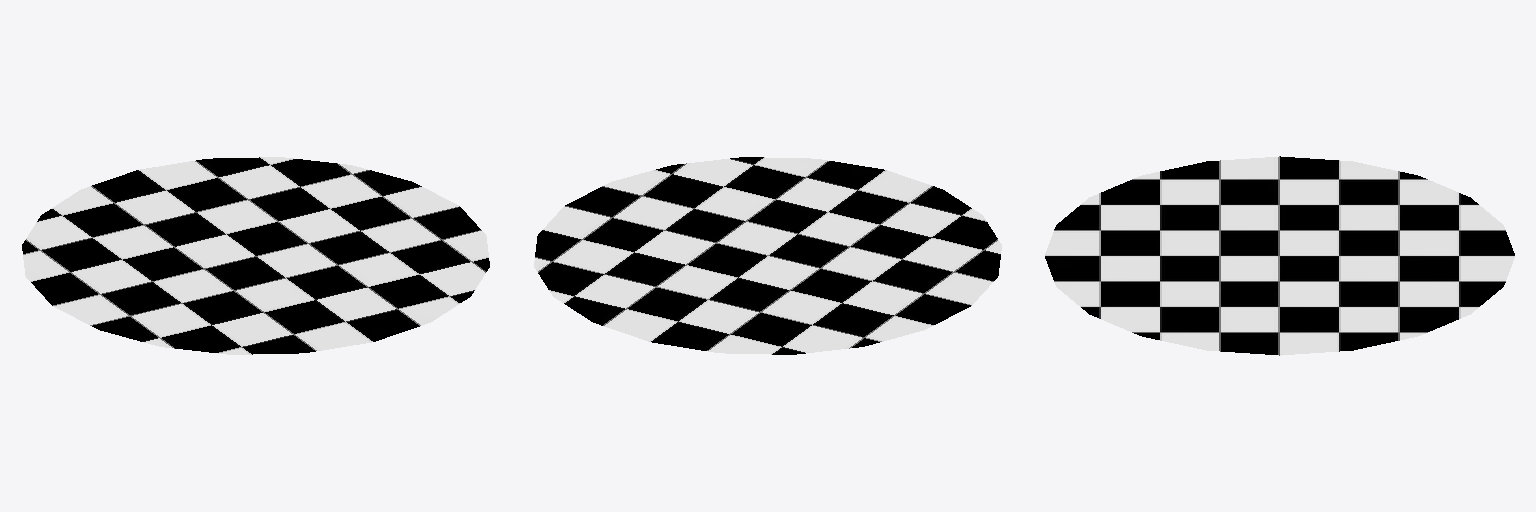
3 renders of one model, left to right at view 1: azimuth 30°, elevation 25°; view 2: azimuth 150°, elevation 25°; view 3: azimuth 270°, elevation 25°, orthographic.
Visible parts, largest first — view 1: polySurface1 Fachada:polySurface2; view 2: polySurface1 Fachada:polySurface2; view 3: polySurface1 Fachada:polySurface2.
Boxes of the visible parts, <box> form: polySurface1 Fachada:polySurface2: <box>22,157,489,354</box>; polySurface1 Fachada:polySurface2: <box>534,157,1001,354</box>; polySurface1 Fachada:polySurface2: <box>1045,156,1514,355</box>.
Size of the model in its own units: 6.61 by 0 by 6.61.
Materials: 1 (1 with a texture image).